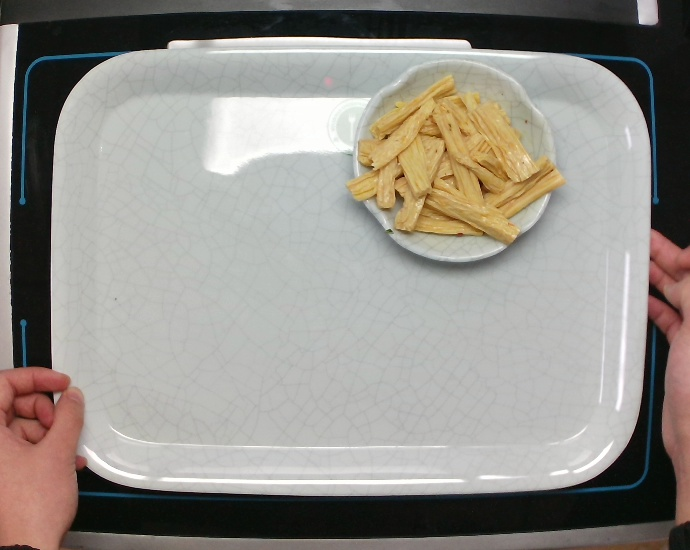JYsf-Ao_Yuan_Wan: (348, 54, 563, 268)
